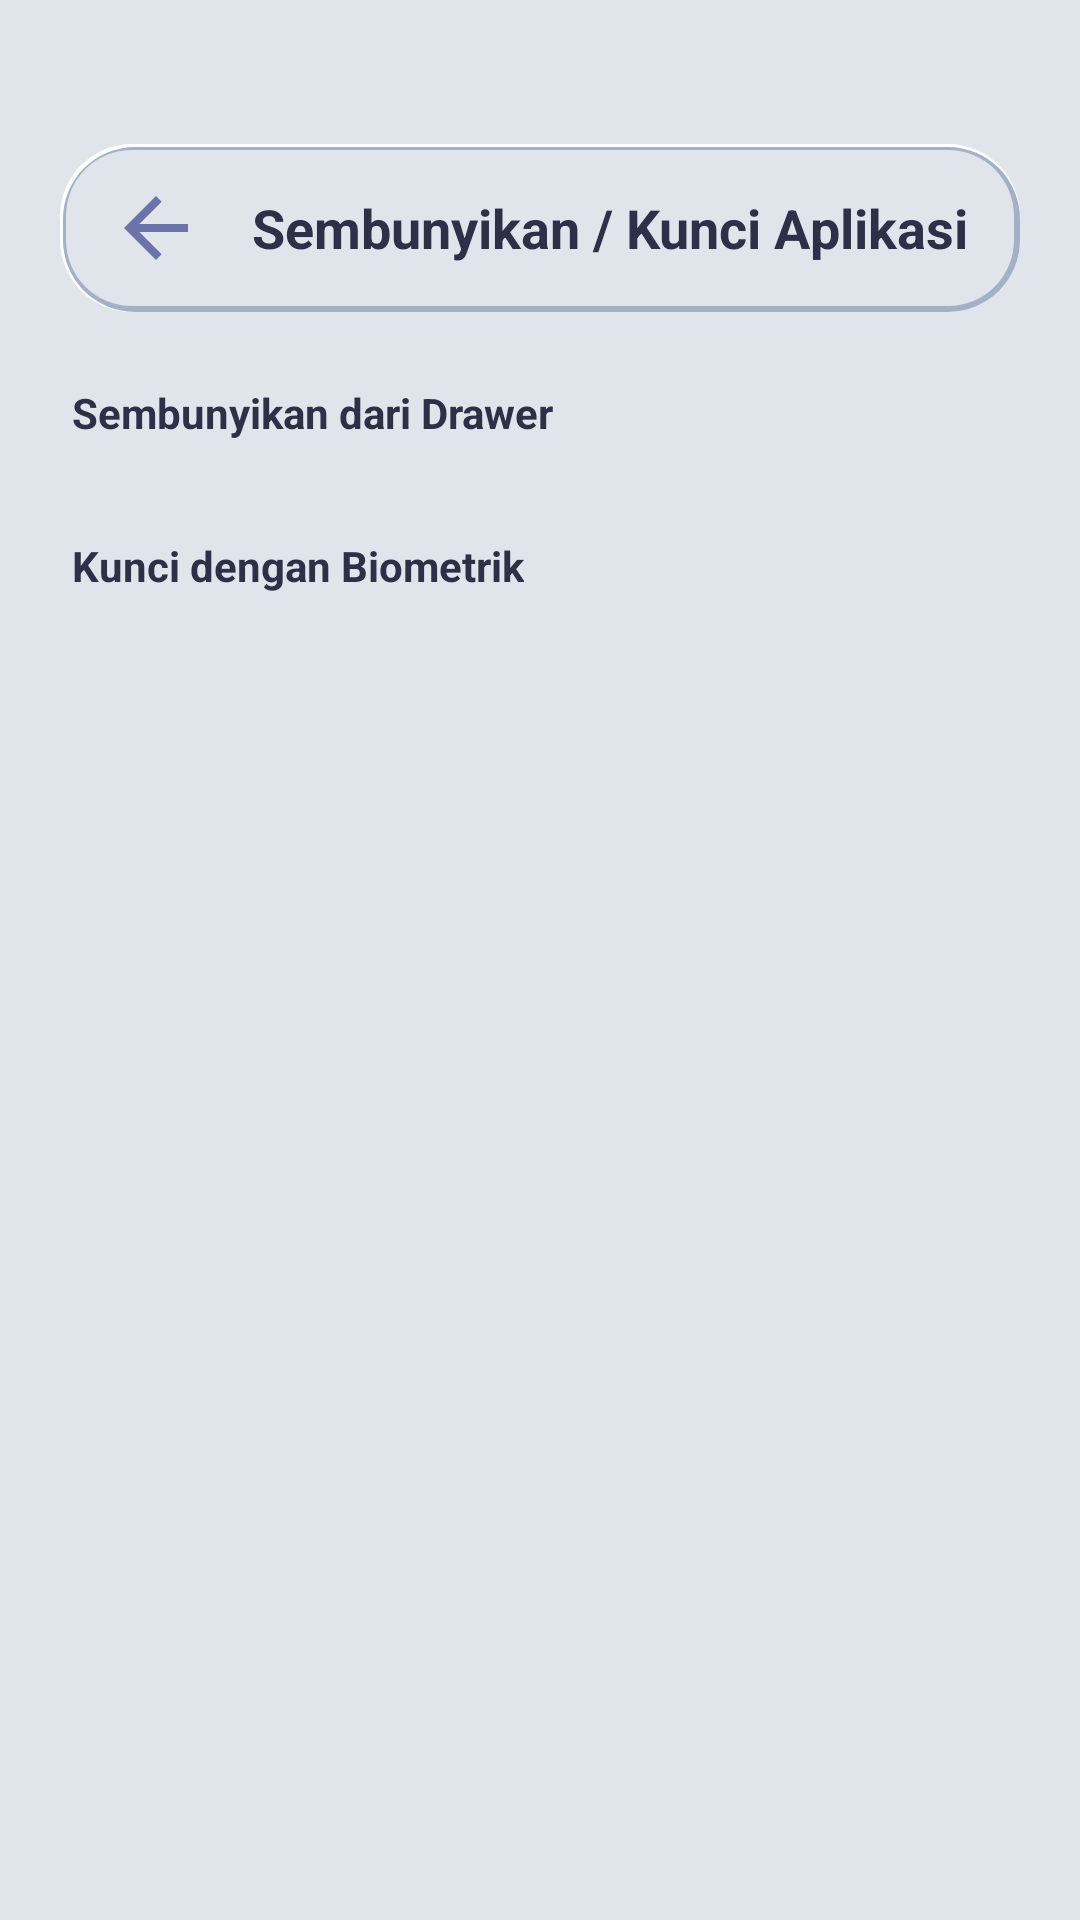

Where to tap for icons on this 1080 × 1920 app screen, as (x,y):
arrow back: (156,228)
